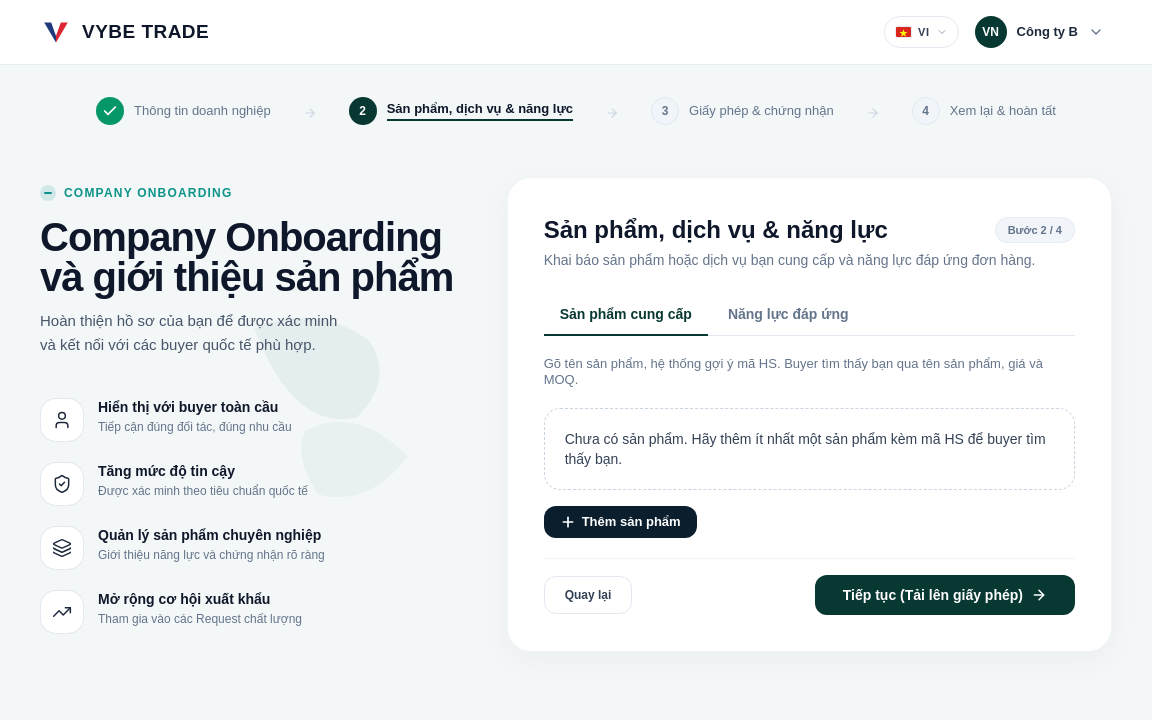
Test: route hồ sơ doanh nghiệp dùng dữ liệu server › /exporter/profile nạp hồ sơ đã lưu trên server
// Trang sửa hồ sơ cũ mở ở bước 2 (sản phẩm) — bấm về bước 1 như người dùng.
Click the button "Thông tin doanh nghiệp" at [183, 113], box [96, 97, 271, 129]
(page scrolled)
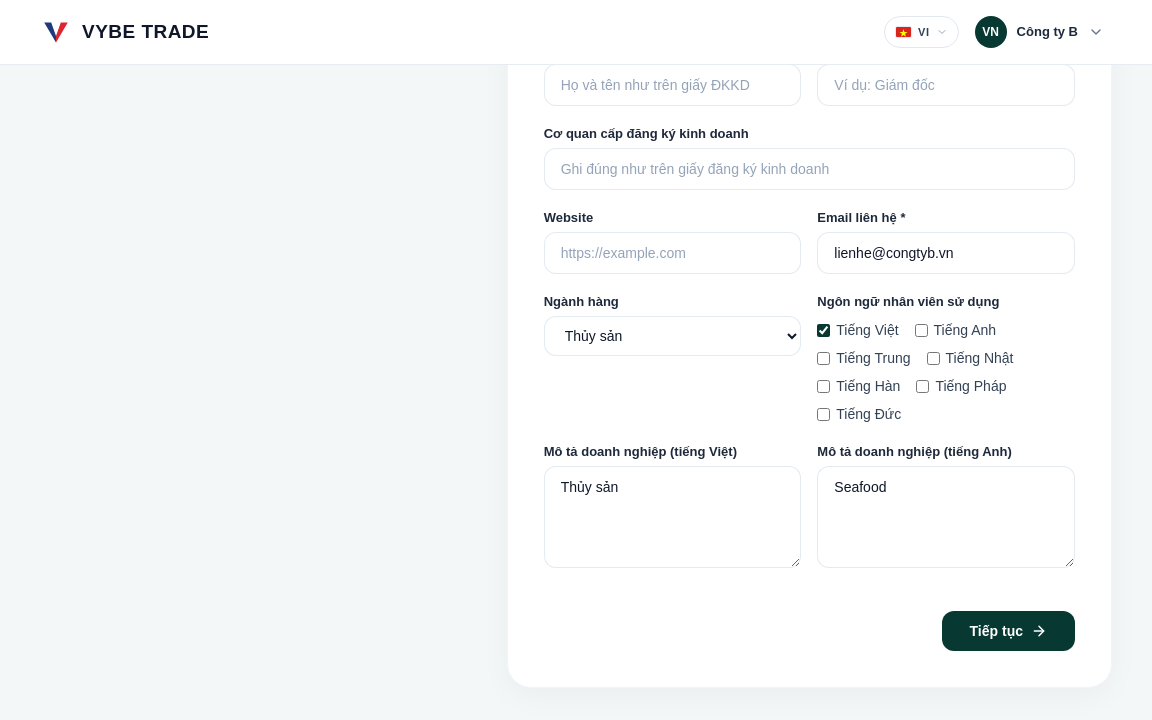
Result: the text box showing "Seafood" is shown at [817, 466, 1075, 568]
